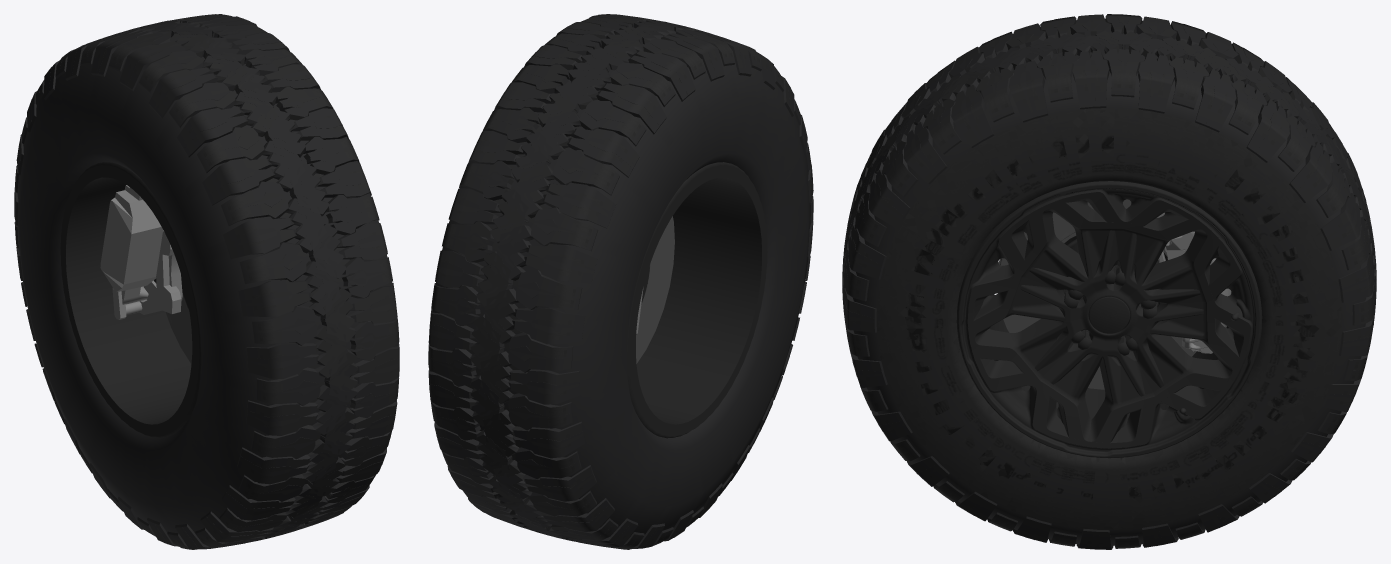
The model's file is Wheel1B_3D.fbx.
3 views of the same model, side by side, from view 1: azimuth 30°, elevation 25°; view 2: azimuth 150°, elevation 25°; view 3: azimuth 270°, elevation 25° (orthographic).
Parts seen in each view (by area): view 1: Combined3DWheel_3DWheel_Front_L Instance1_Src4, CombinedCalliperZoneCalliperZone_Front_L Instance1_Src4; view 2: Combined3DWheel_3DWheel_Front_L Instance1_Src4; view 3: Combined3DWheel_3DWheel_Front_L Instance1_Src4, CombinedCalliperZoneCalliperZone_Front_L Instance1_Src4.
Boxes of the visible parts, x1,y1,x2,y2 form: Combined3DWheel_3DWheel_Front_L Instance1_Src4: [14, 14, 399, 549]; CombinedCalliperZoneCalliperZone_Front_L Instance1_Src4: [100, 185, 182, 319]; Combined3DWheel_3DWheel_Front_L Instance1_Src4: [428, 14, 813, 549]; Combined3DWheel_3DWheel_Front_L Instance1_Src4: [842, 14, 1376, 549]; CombinedCalliperZoneCalliperZone_Front_L Instance1_Src4: [1157, 212, 1231, 353].
Bounding box in the file's own units: 0.2972 × 0.8305 × 0.8305.
2 materials, 2 textured.
